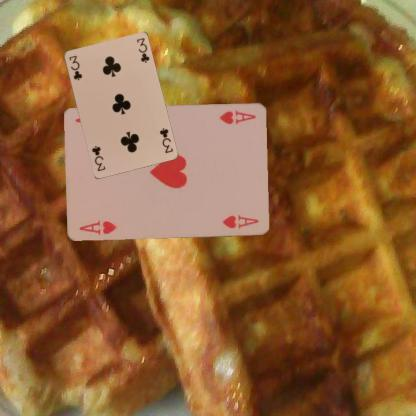3c: (66, 52, 84, 82), (156, 126, 174, 154)
Ah: (77, 218, 118, 236), (217, 108, 257, 126)
